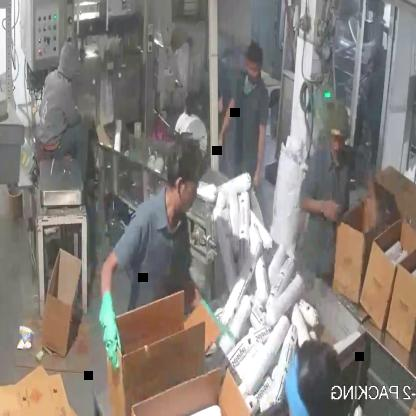glove: (97, 283, 124, 371)
no_glove: (249, 106, 272, 198), (214, 89, 240, 168), (296, 191, 344, 227)
